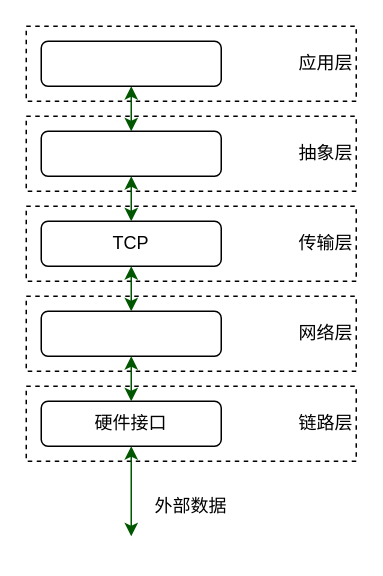
Image size: 383x576. Some labels were removed from this diagram. The shapes that lost their labels are listed below. From the top down, each one's box as (x1, y1, x2, y2) in pixels, then its label:
(40, 40, 221, 86): 应用程序
(40, 130, 221, 176): Socket
(40, 310, 221, 356): IP
